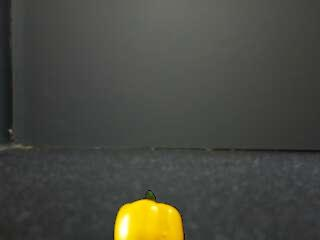Capsicum: (113, 187, 186, 240)
